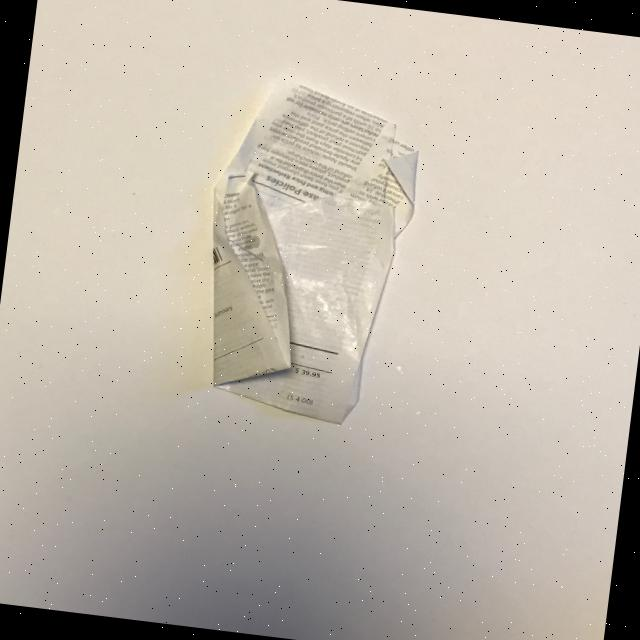paper: (184, 68, 429, 430)
